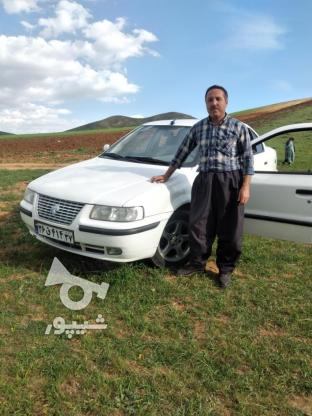car: (34, 219, 75, 243)
